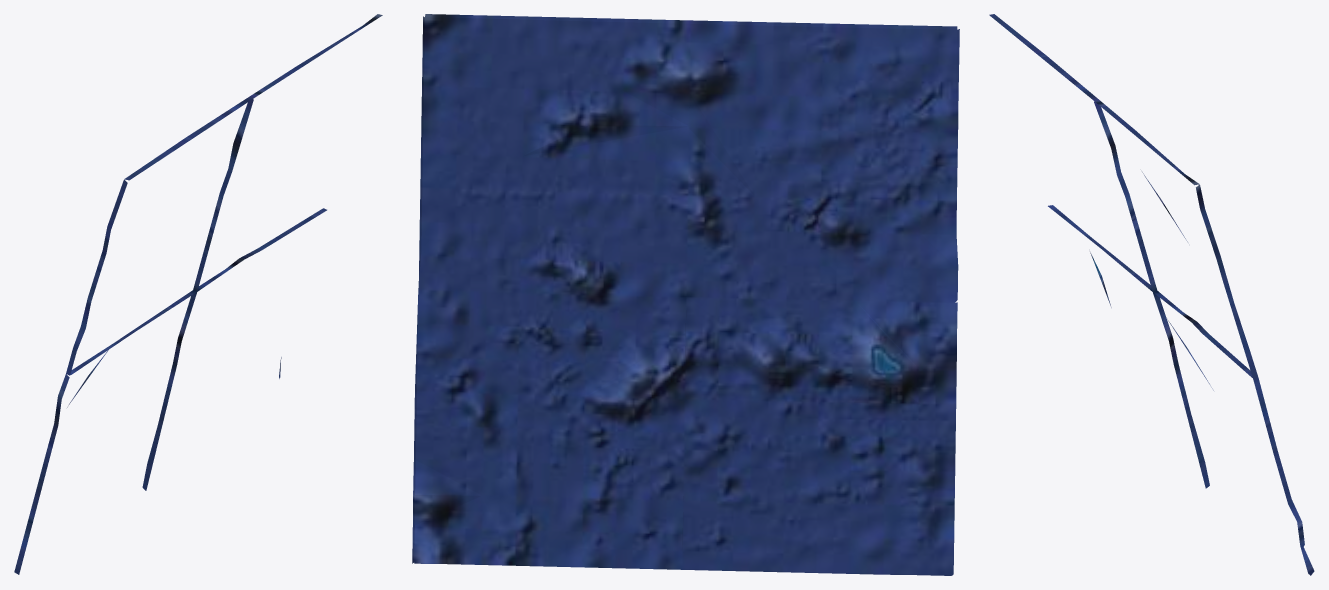
The picture shows the model from 3 angles, left to right: view 1: azimuth 30°, elevation 25°; view 2: azimuth 150°, elevation 25°; view 3: azimuth 270°, elevation 25°; orthographic projection. The views are drawn at different scales.
Size of the model in its own units: 311102 by 303834 by 216606.
Materials: 1 (1 with a texture image).
